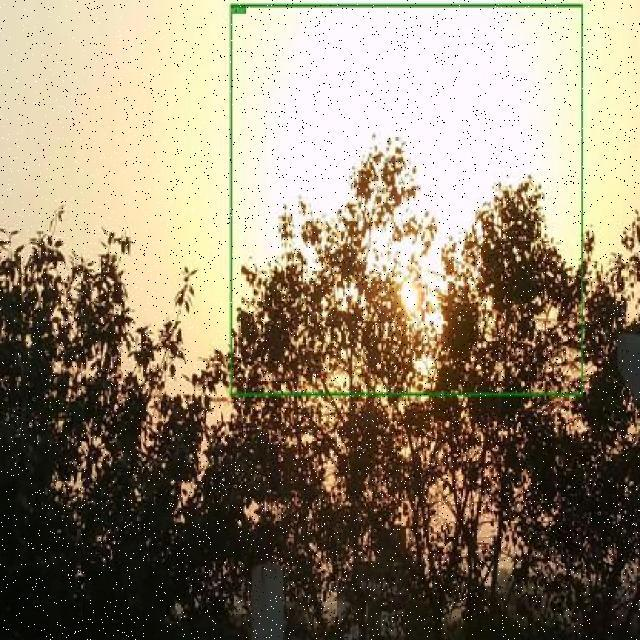other: (230, 3, 582, 394)
